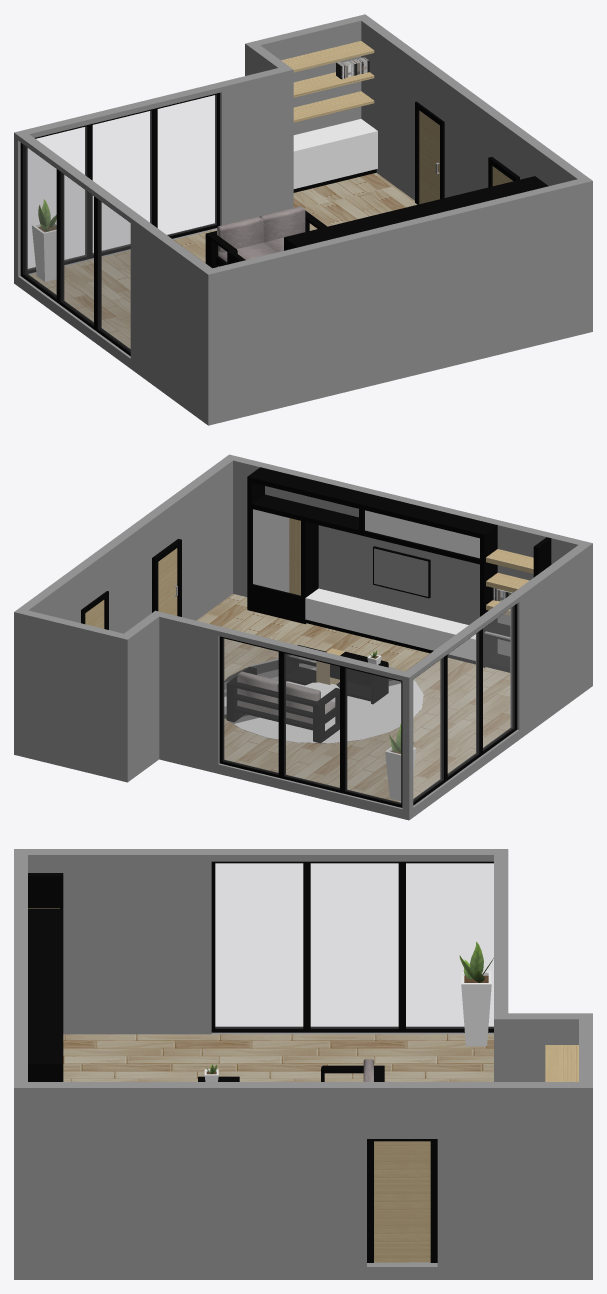
The model's file is accueilfbx.fbx.
The picture shows the model from 3 angles, top to bottom: view 1: azimuth 30°, elevation 25°; view 2: azimuth 150°, elevation 25°; view 3: azimuth 270°, elevation 25°; orthographic projection. The views are drawn at different scales.
Parts seen in each view (by area): view 1: 前牆, 大.001, 大.002, 大, 玻璃.005, 主體, 小, 玻璃.004, 後, 玻璃.003, 玻璃.002, 玻璃.001 (+25 smaller); view 2: 主體, 後, 前牆, 大, 大.001, 大.002, 玻璃.005, 玻璃.004, 玻璃.003, 地毯, 上架頂, 左 (+45 smaller); view 3: 大, 大.001, 小, 主體, 玻璃.001, 玻璃, 玻璃.002, 門板.001, 前牆, 上架頂, 上, 上.001 (+14 smaller).
Boxes of the visible parts, left/top/right/bottom form: 前牆: left=202, top=177, right=592, bottom=425; 大.001: left=130, top=215, right=211, bottom=421; 大.002: left=216, top=65, right=293, bottom=225; 大: left=444, top=79, right=586, bottom=197; 玻璃.005: left=158, top=95, right=216, bottom=235; 主體: left=30, top=186, right=417, bottom=348; 小: left=361, top=18, right=425, bottom=200; 玻璃.004: left=93, top=111, right=151, bottom=253; 後: left=245, top=14, right=370, bottom=134; 玻璃.003: left=28, top=127, right=86, bottom=269; 玻璃.002: left=23, top=145, right=56, bottom=297; 玻璃.001: left=61, top=173, right=93, bottom=324; 主體: left=197, top=594, right=510, bottom=802; 後: left=14, top=608, right=132, bottom=782; 前牆: left=224, top=454, right=592, bottom=689; 大: left=98, top=458, right=232, bottom=633; 大.001: left=510, top=545, right=587, bottom=739; 大.002: left=150, top=610, right=222, bottom=773; 玻璃.005: left=223, top=638, right=278, bottom=773; 玻璃.004: left=284, top=653, right=339, bottom=788; 玻璃.003: left=346, top=668, right=400, bottom=803; 地毯: left=224, top=657, right=423, bottom=743; 上架頂: left=251, top=468, right=492, bottom=538; 左: left=124, top=614, right=159, bottom=778; 大: left=28, top=1082, right=366, bottom=1279; 大.001: left=28, top=849, right=211, bottom=1034; 小: left=437, top=1082, right=578, bottom=1279; 主體: left=63, top=1034, right=493, bottom=1081; 玻璃.001: left=311, top=863, right=398, bottom=1028; 玻璃: left=215, top=863, right=302, bottom=1028; 玻璃.002: left=406, top=863, right=493, bottom=1028; 門板.001: left=374, top=1141, right=430, bottom=1262; 前牆: left=14, top=849, right=27, bottom=1279; 上架頂: left=28, top=911, right=63, bottom=1060; 上: left=367, top=1082, right=437, bottom=1138; 上.001: left=211, top=849, right=508, bottom=861.
Bounding box in the file's own units: 800 × 300 × 820.
22 materials, 16 textured.
